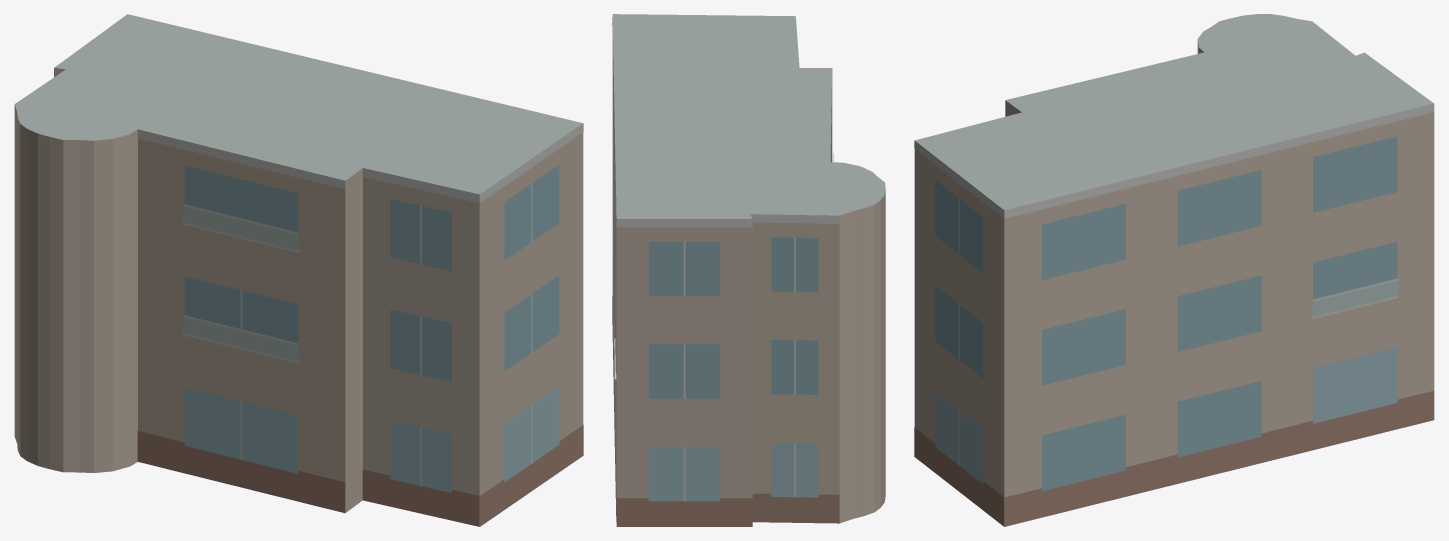
The model's file is survey-upis-32707949.glb.
3 views of the same model, side by side, from view 1: azimuth 30°, elevation 25°; view 2: azimuth 150°, elevation 25°; view 3: azimuth 270°, elevation 25° (orthographic). The views are drawn at different scales.
Parts seen in each view (by area): view 1: survey-upis-32707949.tmp; view 2: survey-upis-32707949.tmp; view 3: survey-upis-32707949.tmp.
Boxes of the visible parts, left/top/right/bottom form: survey-upis-32707949.tmp: left=14, top=14, right=583, bottom=526; survey-upis-32707949.tmp: left=612, top=14, right=885, bottom=526; survey-upis-32707949.tmp: left=914, top=14, right=1434, bottom=526.
Bounding box in the file's own units: 12.19 × 9.15 × 13.63.
